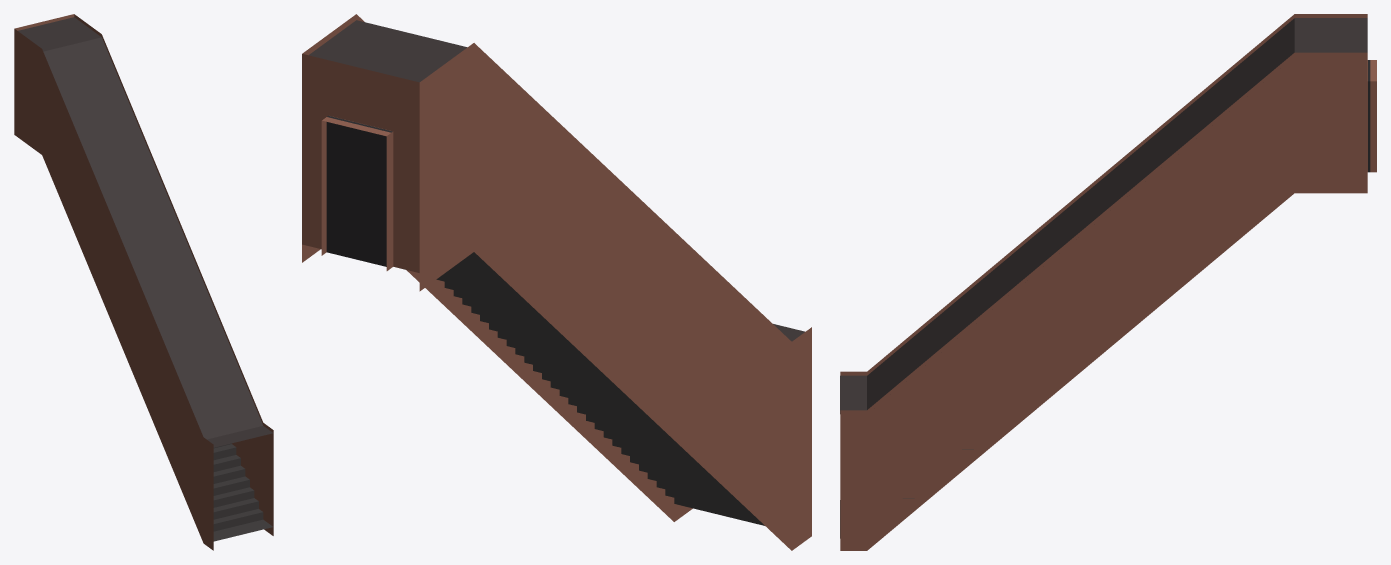
The model's file is stairwell.glb.
The picture shows the model from 3 angles, left to right: view 1: azimuth 30°, elevation 25°; view 2: azimuth 150°, elevation 25°; view 3: azimuth 270°, elevation 25°; orthographic projection. The views are drawn at different scales.
Visible parts, largest first — view 1: ceiling, walls, floor; view 2: walls, floor, roof_leaf, ceiling; view 3: walls, ceiling.
Part boxes in pixels (x1,y1,x2,y2): ceiling: (18,17,272,447); walls: (14,14,273,550); floor: (213,443,272,541); walls: (302,14,811,550); floor: (436,252,764,525); roof_leaf: (326,115,392,266); ceiling: (309,20,804,341); walls: (840,14,1376,550); ceiling: (840,18,1367,413).
Bounding box in the file's own units: 2 × 12.04 × 11.75.
